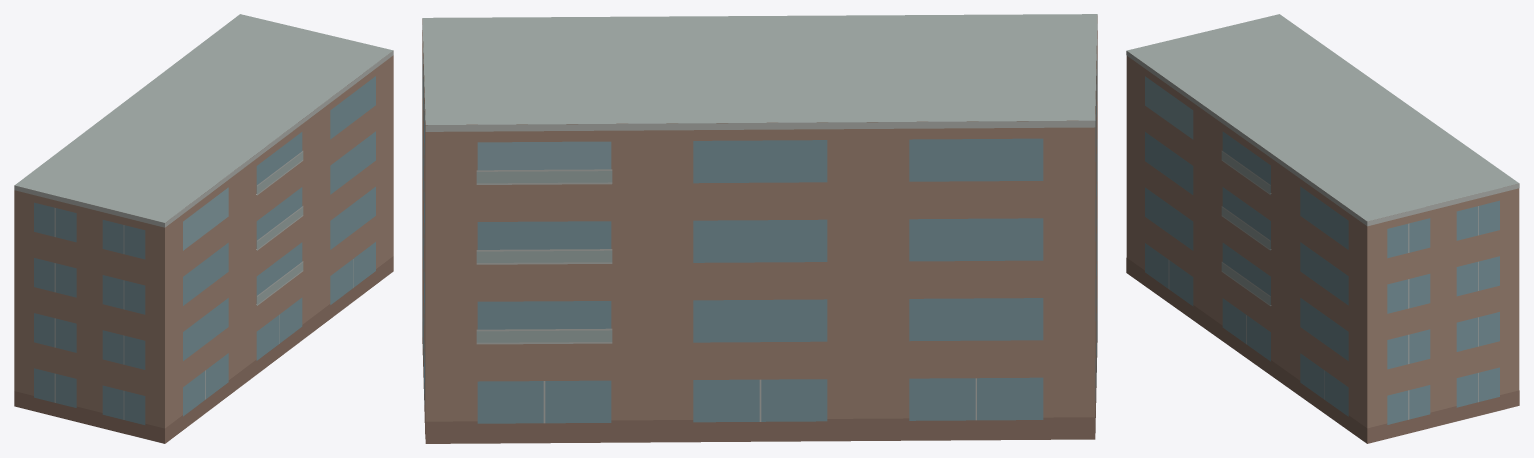
Rendered from survey-upis-32915660.glb.
The picture shows the model from 3 angles, left to right: view 1: azimuth 30°, elevation 25°; view 2: azimuth 150°, elevation 25°; view 3: azimuth 270°, elevation 25°; orthographic projection. The views are drawn at different scales.
Visible parts, largest first — view 1: survey-upis-32915660.tmp; view 2: survey-upis-32915660.tmp; view 3: survey-upis-32915660.tmp.
Part boxes in pixels (x1=…): survey-upis-32915660.tmp: x1=14, y1=14, x2=393, y2=443; survey-upis-32915660.tmp: x1=422, y1=14, x2=1097, y2=443; survey-upis-32915660.tmp: x1=1126, y1=14, x2=1519, y2=443.
Bounding box in the file's own units: 22.63 × 11.3 × 18.11.
